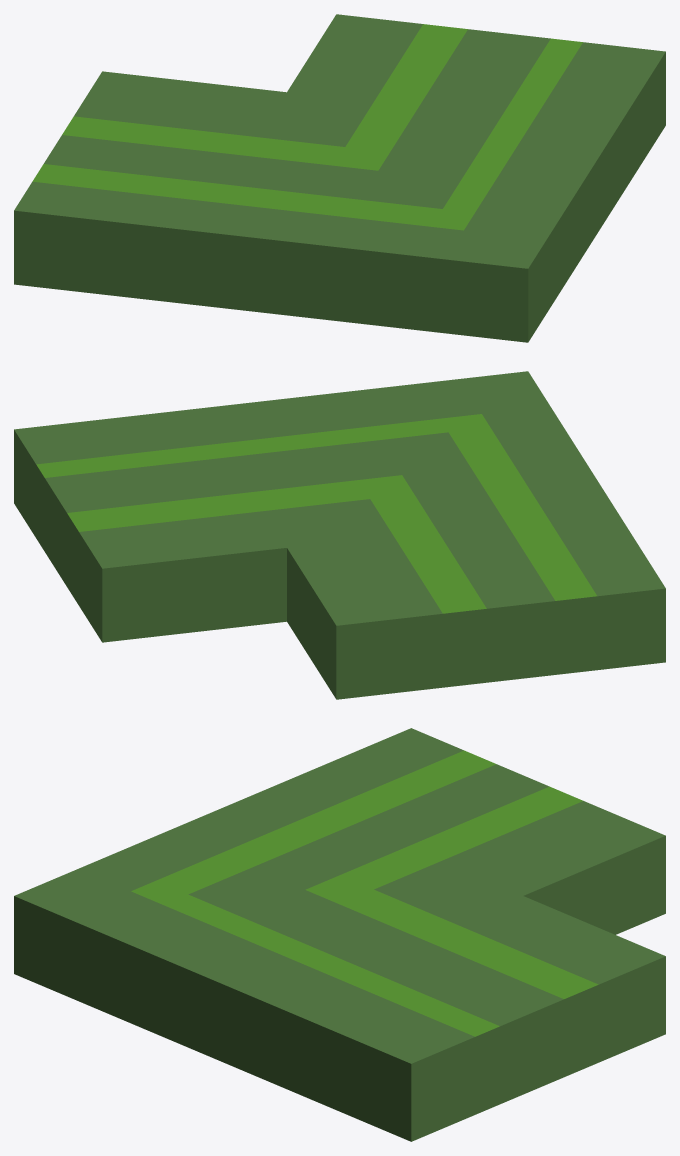
The model's file is DesignLeaf.fbx.
3 views of the same model, one above another, from view 1: azimuth 30°, elevation 25°; view 2: azimuth 150°, elevation 25°; view 3: azimuth 270°, elevation 25° (orthographic). The views are drawn at different scales.
Visible parts, largest first — view 1: Plane; view 2: Plane; view 3: Plane.
Boxes of the visible parts, x1=… form: Plane: x1=14, y1=14, x2=665, y2=342; Plane: x1=14, y1=371, x2=665, y2=699; Plane: x1=14, y1=728, x2=665, y2=1141.
Bounding box in the file's own units: 56.57 × 46.41 × 6.13.
1 material, 1 textured.
